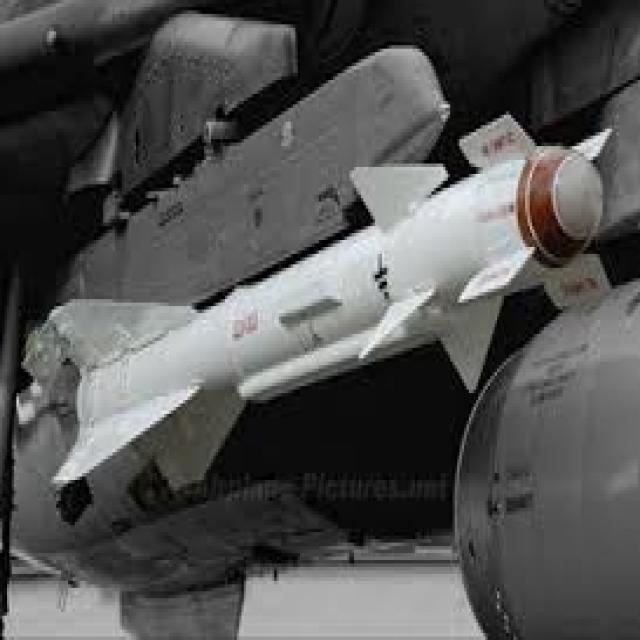missile: (47, 111, 626, 510)
